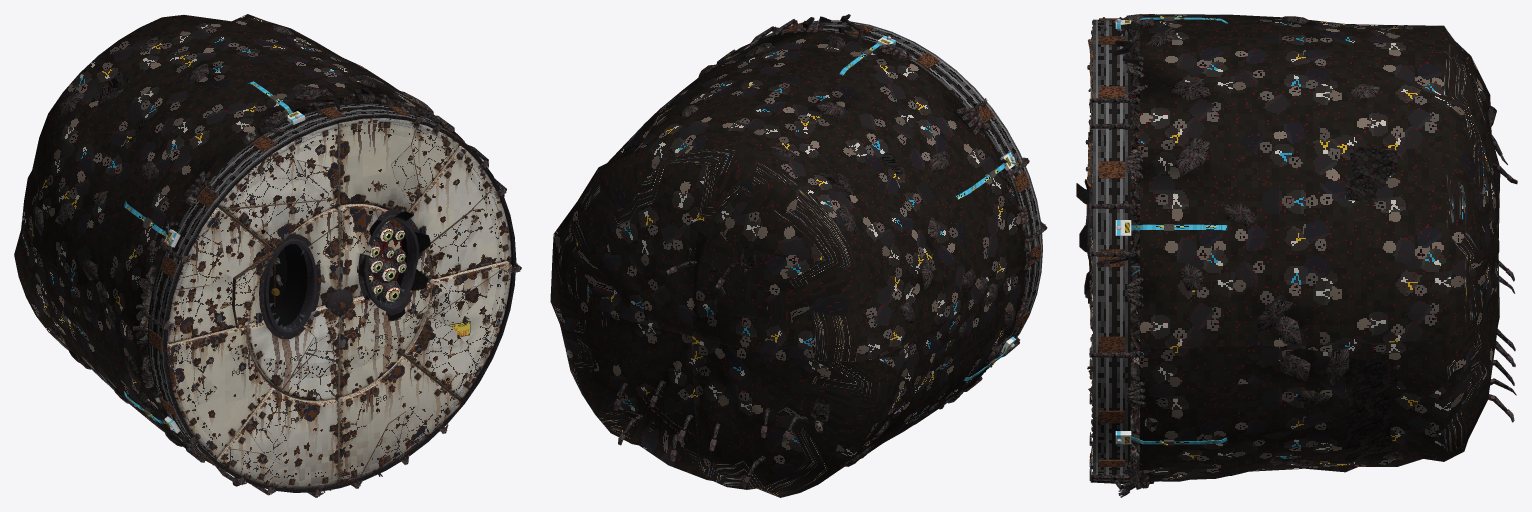
File: revenue_protection.glb
3 views of the same model, side by side, from view 1: azimuth 30°, elevation 25°; view 2: azimuth 150°, elevation 25°; view 3: azimuth 270°, elevation 25° (orthographic). The views are drawn at different scales.
Parts seen in each view (by area): view 1: mass_nw, mass_lod, frame, mass_sw, mass_ne, plate_06_crazed, plate_07_crazed, plate_11_crazed, plate_04, plate_05, plate_08, eye_R (+23 smaller); view 2: mass_nw, mass_lod, mass_sw, mass_ne, mass_se, frame, frame_low, anchors; view 3: mass_ne, mass_se, mass_lod, frame, mass_nw, frame_low, anchors, eye_L_blown.
Boxes of the visible parts, x1,y1,x2,y2 form: mass_nw: (21, 15, 340, 340); mass_lod: (19, 15, 458, 465); frame: (147, 102, 516, 357); mass_sw: (14, 230, 331, 497); mass_ne: (218, 14, 506, 229); plate_06_crazed: (219, 145, 338, 249); plate_07_crazed: (167, 208, 274, 343); plate_11_crazed: (404, 261, 511, 392); plate_04: (408, 146, 511, 277); plate_05: (337, 118, 458, 212); plate_08: (167, 327, 271, 458); eye_R: (256, 234, 325, 338); mass_nw: (666, 14, 1047, 361); mass_lod: (551, 36, 1024, 480); mass_sw: (692, 266, 1029, 497); mass_ne: (551, 16, 848, 336); mass_se: (550, 279, 705, 476); frame: (761, 20, 1042, 265); frame_low: (985, 249, 1042, 372); anchors: (955, 152, 1015, 380); mass_ne: (1089, 27, 1499, 346); mass_se: (1087, 255, 1516, 497); mass_lod: (1135, 17, 1487, 479); frame: (1092, 17, 1139, 352); mass_nw: (1088, 14, 1517, 238); frame_low: (1092, 337, 1139, 475); anchors: (1115, 220, 1227, 445); eye_L_blown: (1076, 179, 1092, 308).
Bounding box in the file's own units: 9.27 × 9.62 × 8.51.
10 materials, 9 textured.
